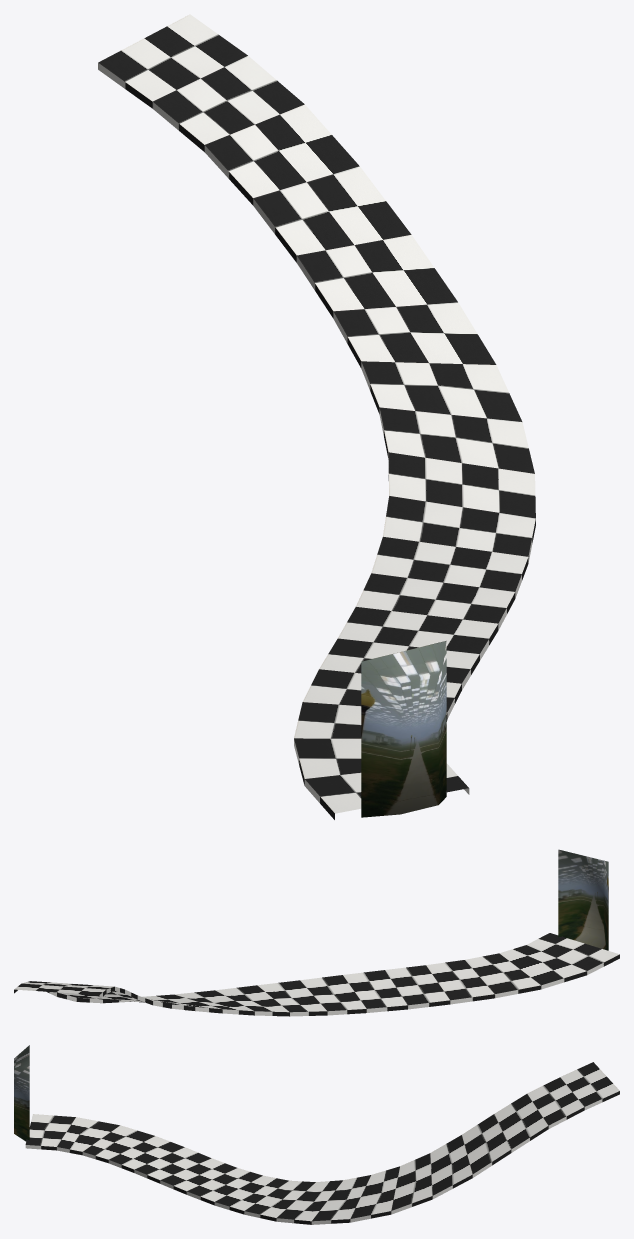
File: UpPath.fbx
The picture shows the model from 3 angles, top to bottom: view 1: azimuth 30°, elevation 25°; view 2: azimuth 150°, elevation 25°; view 3: azimuth 270°, elevation 25°; orthographic projection. The views are drawn at different scales.
Visible parts, largest first — view 1: Path2, BG1; view 2: Path2, BG1; view 3: Path2, BG1.
Part boxes in pixels (x1,y1,x2,y2): Path2: [98, 14, 535, 819]; BG1: [361, 641, 446, 817]; Path2: [14, 933, 619, 1016]; BG1: [558, 849, 608, 950]; Path2: [25, 1062, 619, 1224]; BG1: [14, 1045, 29, 1141].
Bounding box in the file's own units: 8.22 × 16.5 × 4.04.
